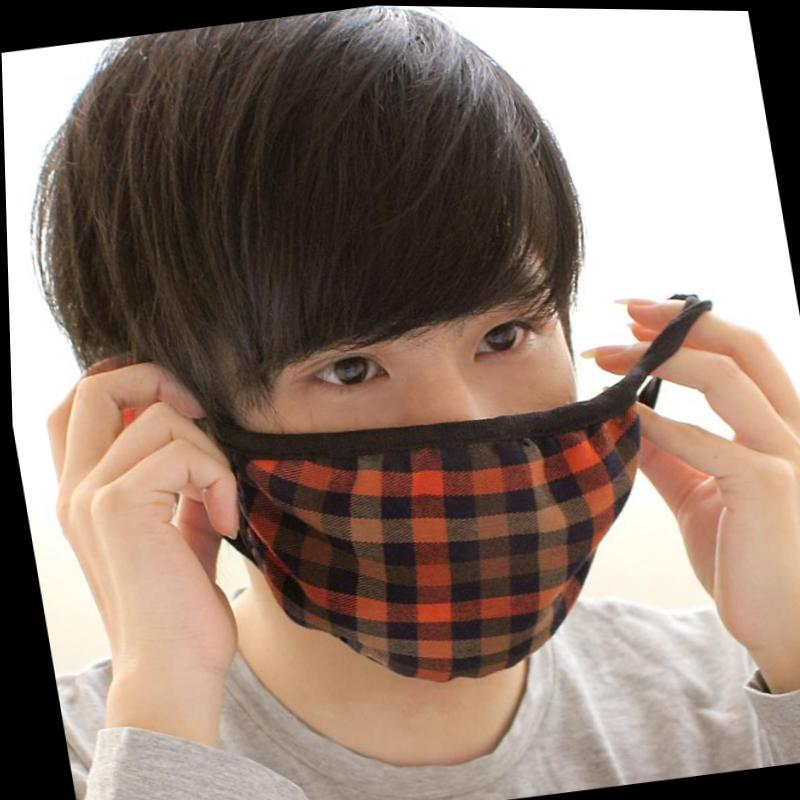WRONG: (181, 244, 638, 686)
